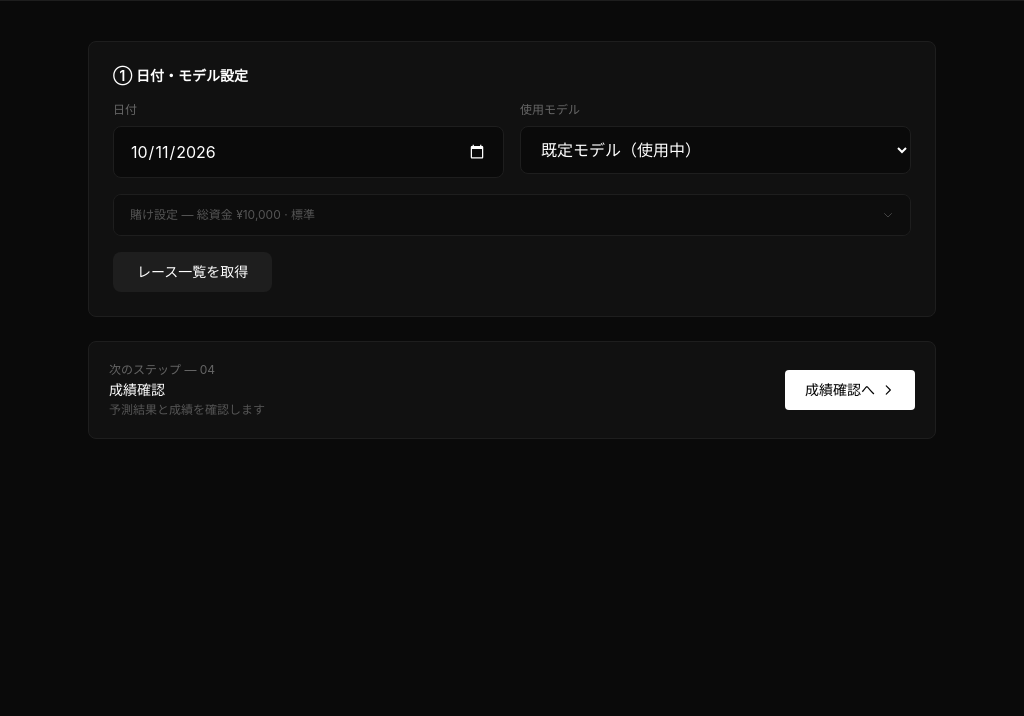
Test: batch prediction EV freshness only › hides expired EV while preserving calibrated win probabilities and scores (skip)
This screenshot has width=1024, height=716.
Click the button "レース一覧を取得": point(193, 272) left=113, top=252, right=272, bottom=292
(page scrolled)
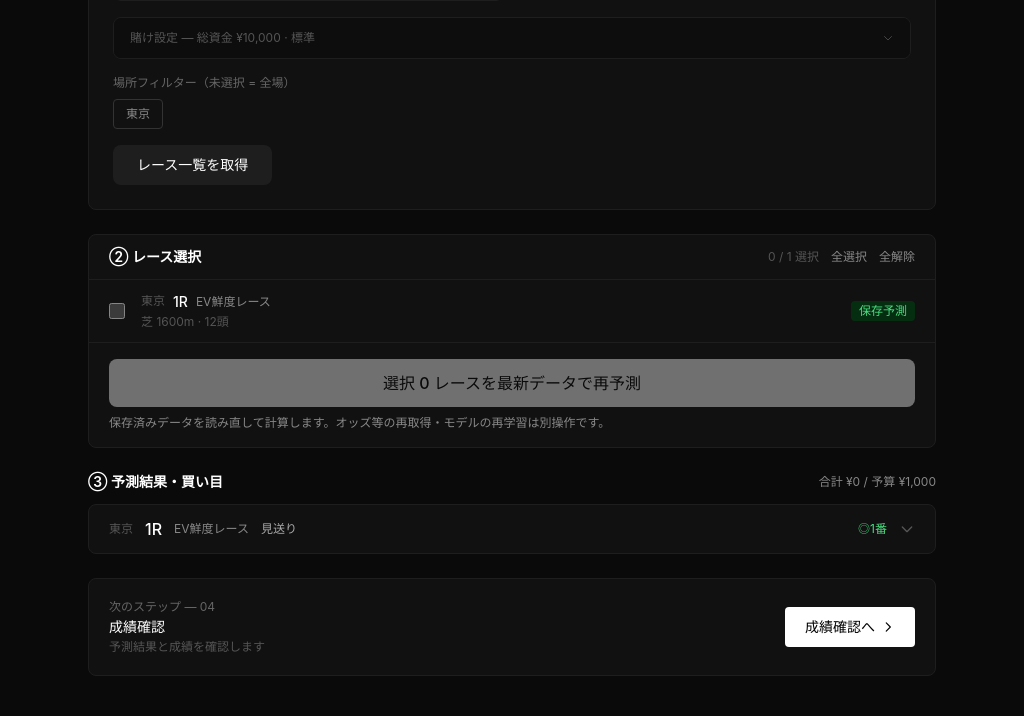
Click the button "東京 1R EV鮮度レース 見送り ◎1番": point(211, 528) left=89, top=505, right=935, bottom=553
Wait 2000 ms
(page scrolled)
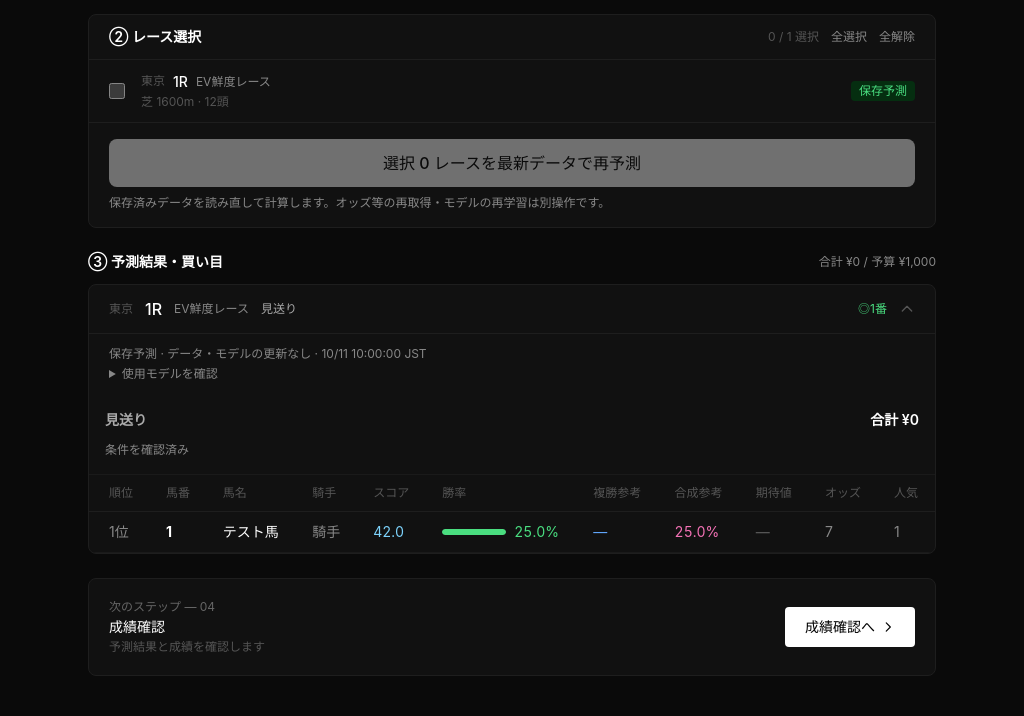
Expected: the 2nd text "1.75" is shown, left=740, top=512, right=809, bottom=552
Expected: the 2nd text "1.75" reads "—", left=756, top=523, right=770, bottom=540
Expected: the column heading "勝率" is shown, left=426, top=475, right=577, bottom=512
